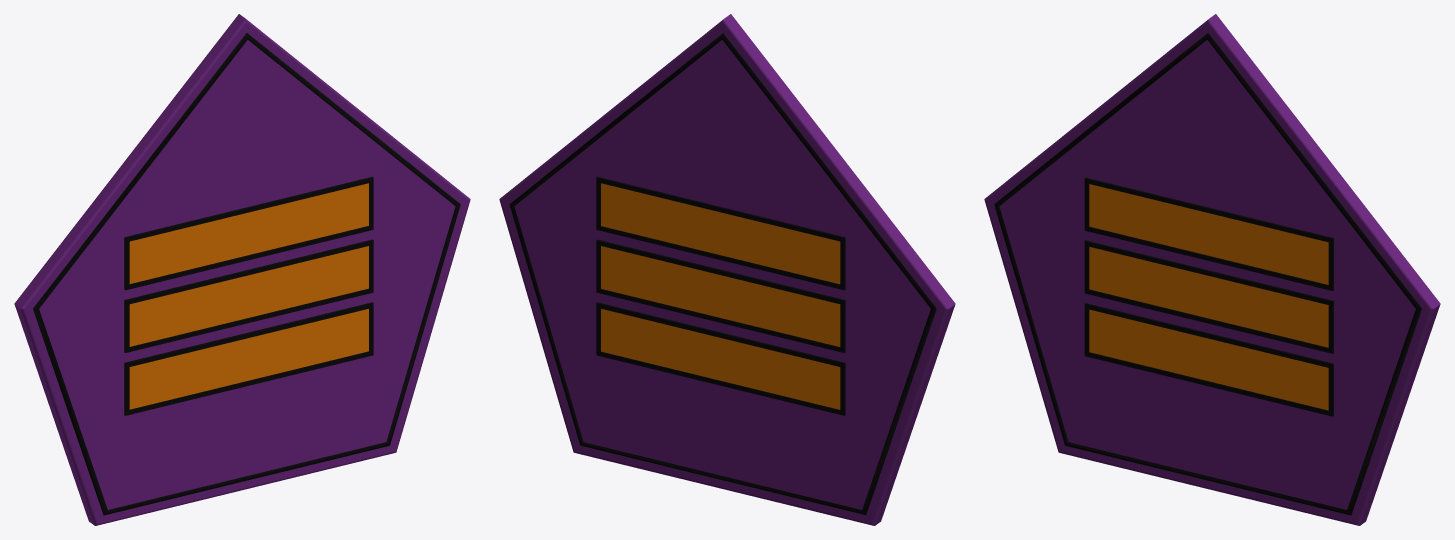
The model's file is Pentagon_3Line.fbx.
3 renders of one model, left to right at view 1: azimuth 30°, elevation 25°; view 2: azimuth 150°, elevation 25°; view 3: azimuth 330°, elevation 25°, orthographic.
Parts seen in each view (by area): view 1: outer_Pentagon3Line; view 2: outer_Pentagon3Line; view 3: outer_Pentagon3Line.
Part boxes in pixels (left/top/right/bottom): outer_Pentagon3Line: left=14, top=14, right=470, bottom=525; outer_Pentagon3Line: left=499, top=14, right=955, bottom=525; outer_Pentagon3Line: left=984, top=14, right=1440, bottom=525.
Size of the model in its own units: 150 by 150 by 6.22.
8 materials, 8 textured.
